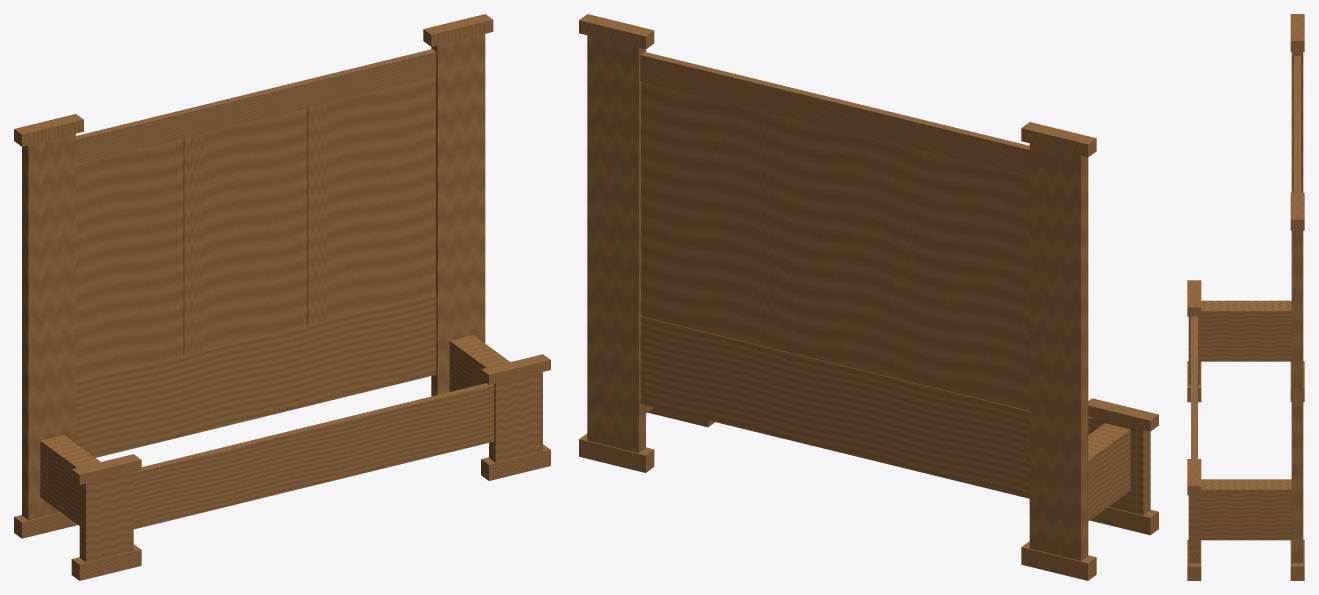
3 views of the same model, side by side, from view 1: azimuth 30°, elevation 25°; view 2: azimuth 150°, elevation 25°; view 3: azimuth 270°, elevation 25° (orthographic). The views are drawn at different scales.
Parts seen in each view (by area): view 1: 8 headboard_panel, 11 headboard_lower_rail, 18 footboard_rail, 1 headboard_left_post, 4 headboard_right_post, 7 headboard_top_rail, 9 headboard_left_stile, 10 headboard_right_stile, 12 footboard_left_post, 15 footboard_right_post, 19 left_side_rail, 20 right_side_rail (+7 smaller); view 2: 8 headboard_panel, 11 headboard_lower_rail, 1 headboard_left_post, 4 headboard_right_post, 7 headboard_top_rail, 10 headboard_right_stile, 9 headboard_left_stile, 19 left_side_rail, 12 footboard_left_post, 3 headboard_left_post_cap, 6 headboard_right_post_cap, 2 headboard_left_post_base (+3 smaller); view 3: 19 left_side_rail, 20 right_side_rail, 4 headboard_right_post, 18 footboard_rail, 7 headboard_top_rail, 15 footboard_right_post, 1 headboard_left_post, 6 headboard_right_post_cap, 3 headboard_left_post_cap, 14 footboard_left_post_cap, 17 footboard_right_post_cap, 12 footboard_left_post (+3 smaller).
Part boxes in pixels (x1,y1,x2,y2): 8 headboard_panel: (76, 76, 435, 381); 11 headboard_lower_rail: (76, 294, 436, 457); 18 footboard_rail: (133, 383, 494, 529); 1 headboard_left_post: (22, 133, 75, 520); 4 headboard_right_post: (431, 34, 485, 396); 7 headboard_top_rail: (76, 49, 436, 163); 9 headboard_left_stile: (183, 133, 203, 355); 10 headboard_right_stile: (307, 103, 326, 325); 12 footboard_left_post: (79, 472, 133, 562); 15 footboard_right_post: (489, 372, 542, 462); 19 left_side_rail: (40, 435, 100, 525); 20 right_side_rail: (449, 335, 509, 391); 8 headboard_panel: (641, 81, 1029, 410); 11 headboard_lower_rail: (640, 316, 1029, 498); 1 headboard_left_post: (1029, 143, 1088, 560); 4 headboard_right_post: (587, 35, 645, 452); 7 headboard_top_rail: (640, 52, 1029, 175); 10 headboard_right_stile: (759, 110, 779, 349); 9 headboard_left_stile: (893, 143, 913, 381); 19 left_side_rail: (1088, 423, 1130, 520); 12 footboard_left_post: (1092, 417, 1150, 515); 3 headboard_left_post_cap: (1021, 122, 1096, 157); 6 headboard_right_post_cap: (579, 14, 654, 49); 2 headboard_left_post_base: (1021, 541, 1096, 580); 19 left_side_rail: (1200, 300, 1291, 361); 20 right_side_rail: (1200, 479, 1291, 540); 4 headboard_right_post: (1291, 230, 1303, 563); 18 footboard_rail: (1191, 316, 1197, 458); 7 headboard_top_rail: (1294, 56, 1300, 192); 15 footboard_right_post: (1188, 495, 1200, 563); 1 headboard_left_post: (1291, 52, 1303, 192); 6 headboard_right_post_cap: (1290, 192, 1304, 230); 3 headboard_left_post_cap: (1290, 14, 1304, 51); 14 footboard_left_post_cap: (1187, 280, 1201, 316); 17 footboard_right_post_cap: (1187, 459, 1201, 495); 12 footboard_left_post: (1188, 316, 1200, 384).
Bounding box in the file's own units: 2.11 × 1.73 × 0.508.
1 material, 1 textured.
